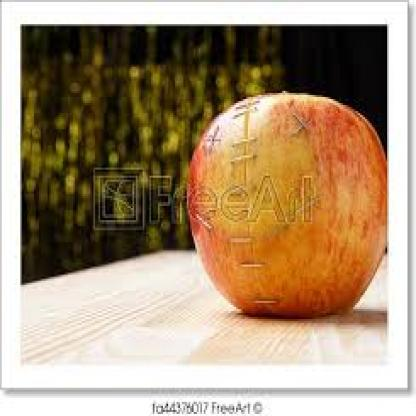damaged_apple: (188, 95, 380, 323)
